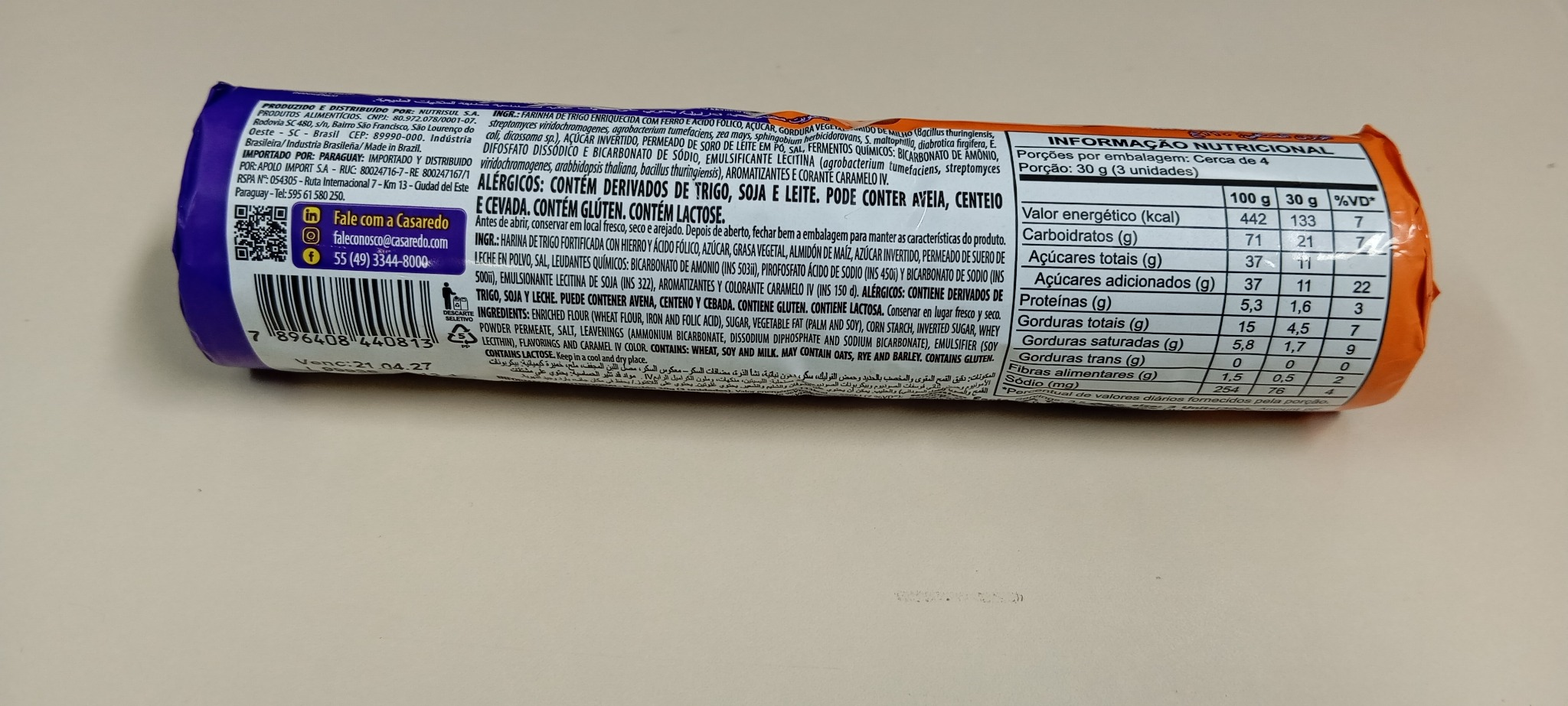my_bit_doce_leite: (138, 59, 1432, 447)
